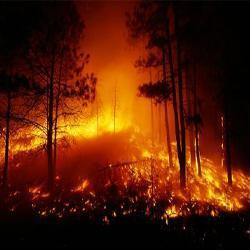fire: (201, 179, 243, 211), (64, 121, 121, 133), (166, 207, 180, 218)
